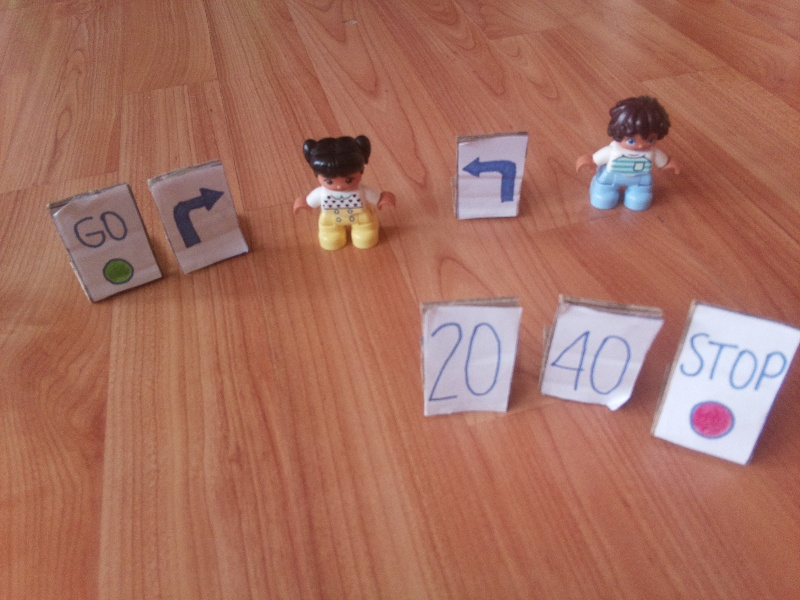20: (428, 321, 502, 406)
40: (548, 325, 631, 398)
go: (64, 204, 139, 287)
person: (292, 133, 395, 250), (576, 94, 679, 211)
stop: (678, 327, 789, 445)
turn left: (463, 148, 520, 210)
turn right: (167, 185, 228, 253)
